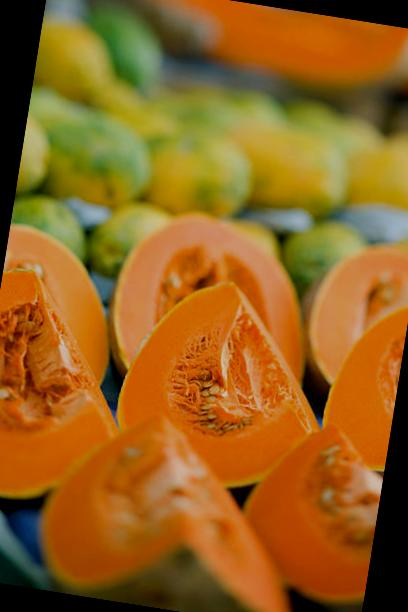Melon Ripe: (110, 272, 340, 502), (0, 266, 136, 512)
